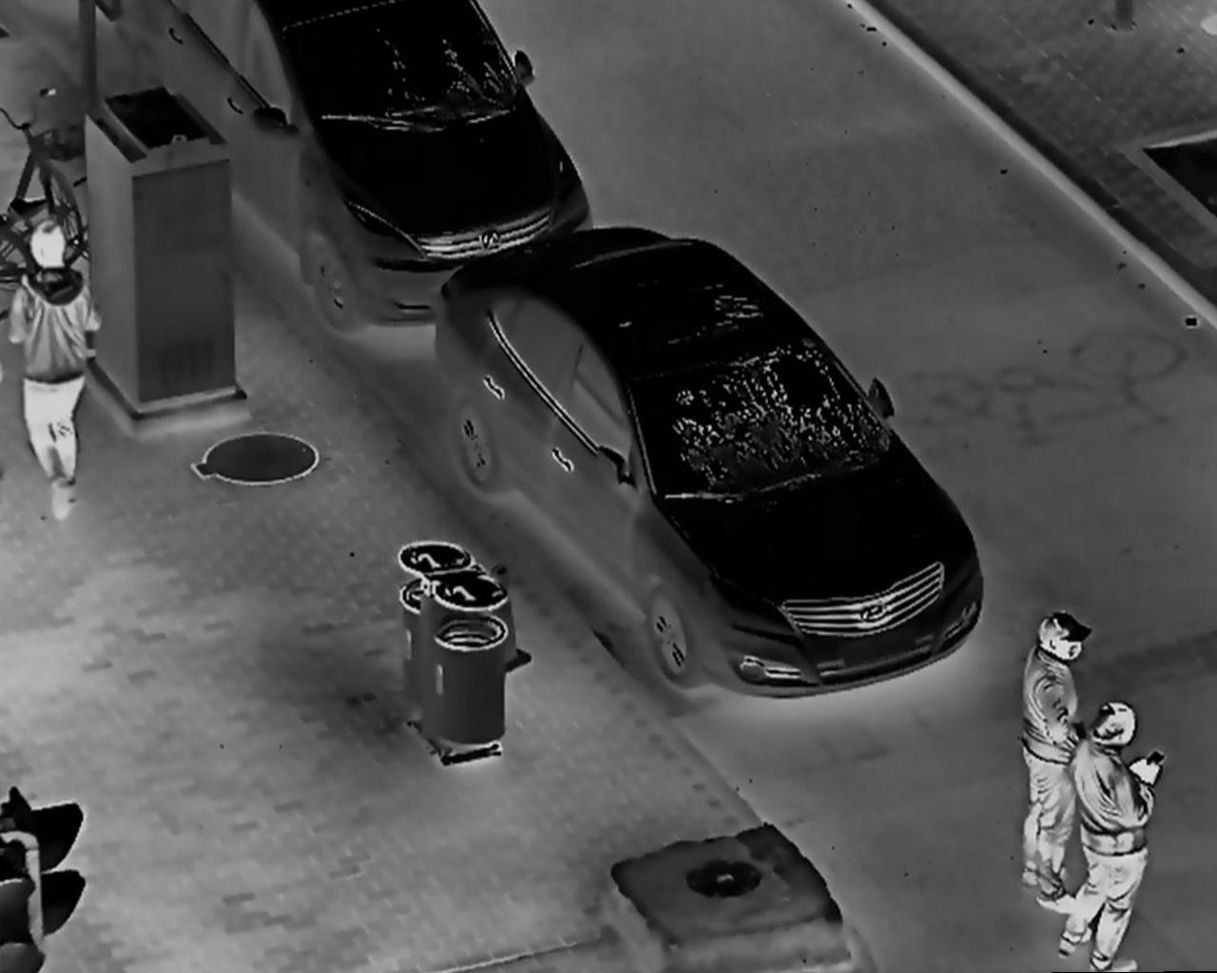person: (1055, 704, 1164, 973), (2, 221, 99, 521), (1006, 613, 1091, 920)
